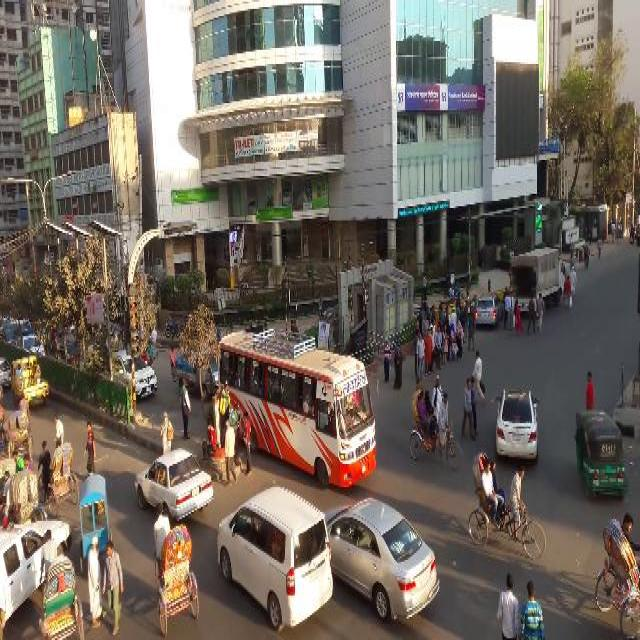vehicle: (218, 325, 379, 488), (214, 480, 337, 631), (325, 493, 443, 619), (465, 449, 550, 563), (3, 513, 74, 602), (134, 447, 214, 522), (596, 500, 639, 637), (408, 373, 461, 475), (573, 399, 627, 499), (154, 498, 202, 610), (509, 243, 566, 325), (494, 383, 540, 470), (40, 528, 85, 612), (79, 468, 113, 573), (37, 441, 81, 510), (3, 461, 47, 527), (112, 349, 159, 400), (11, 356, 52, 407), (7, 391, 34, 461), (475, 288, 504, 333), (15, 333, 47, 359)
